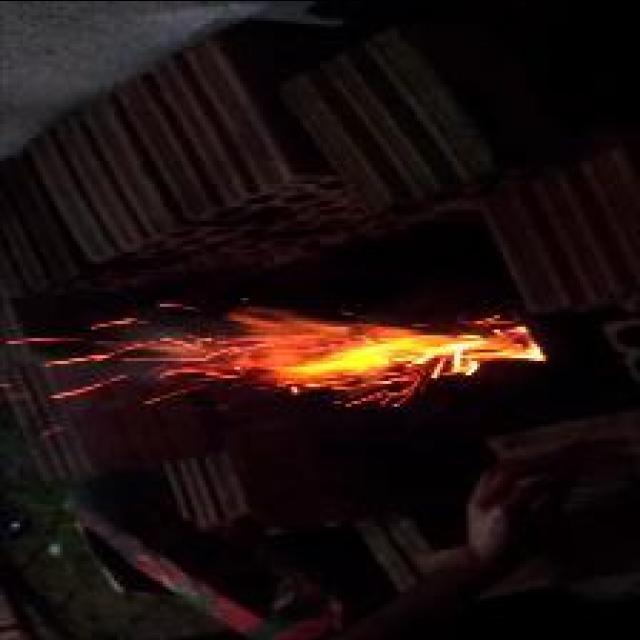Fire: (5, 303, 552, 406)
